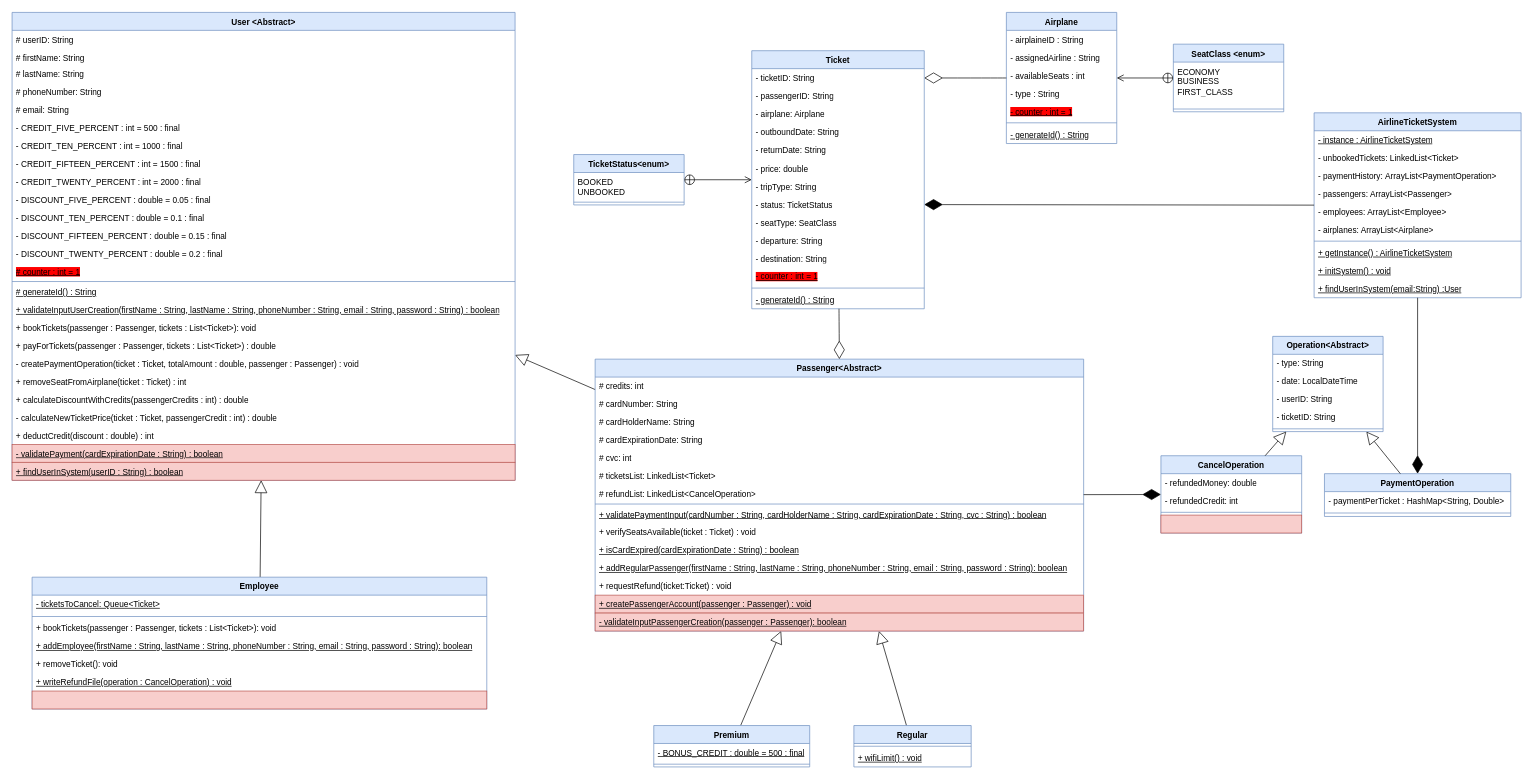
This 1533x780 diagram has some shape labels left out. Each missing label, with the centre of its shape:
"+ obtainRefundedAmount(): double" belongs at (x=1231, y=523).
"+ refund(ticket : Ticket): void" belongs at (x=259, y=699).
